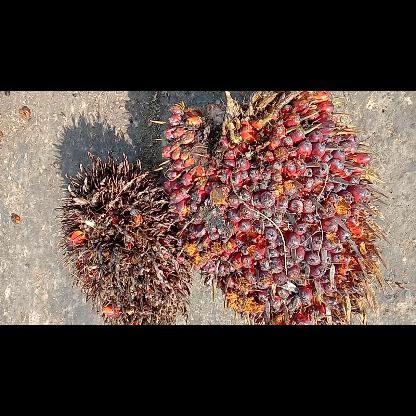TBS masak: (150, 90, 388, 324)
Terlalu masak: (56, 152, 194, 324)
